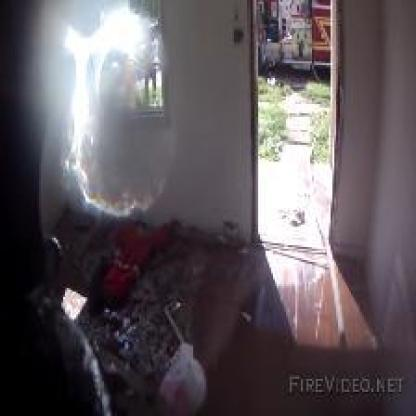other: (35, 10, 183, 204), (249, 160, 350, 248)
